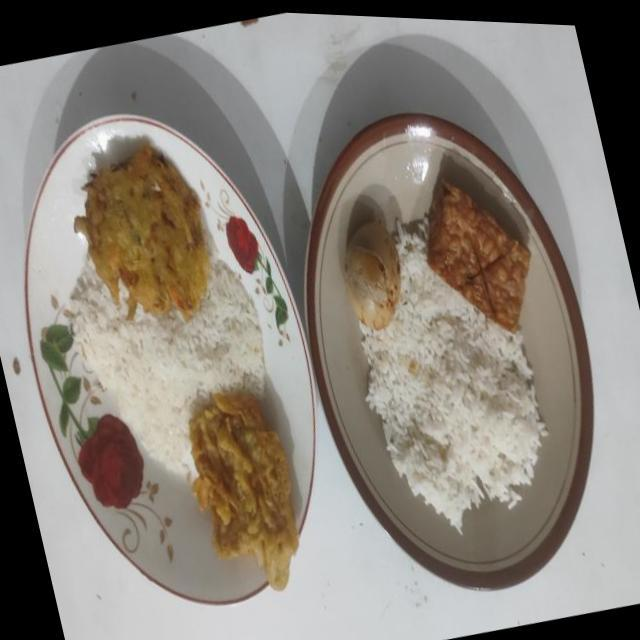nasi_putih: (361, 223, 547, 532), (69, 254, 265, 473)
tempe_goreng: (427, 178, 530, 332)
